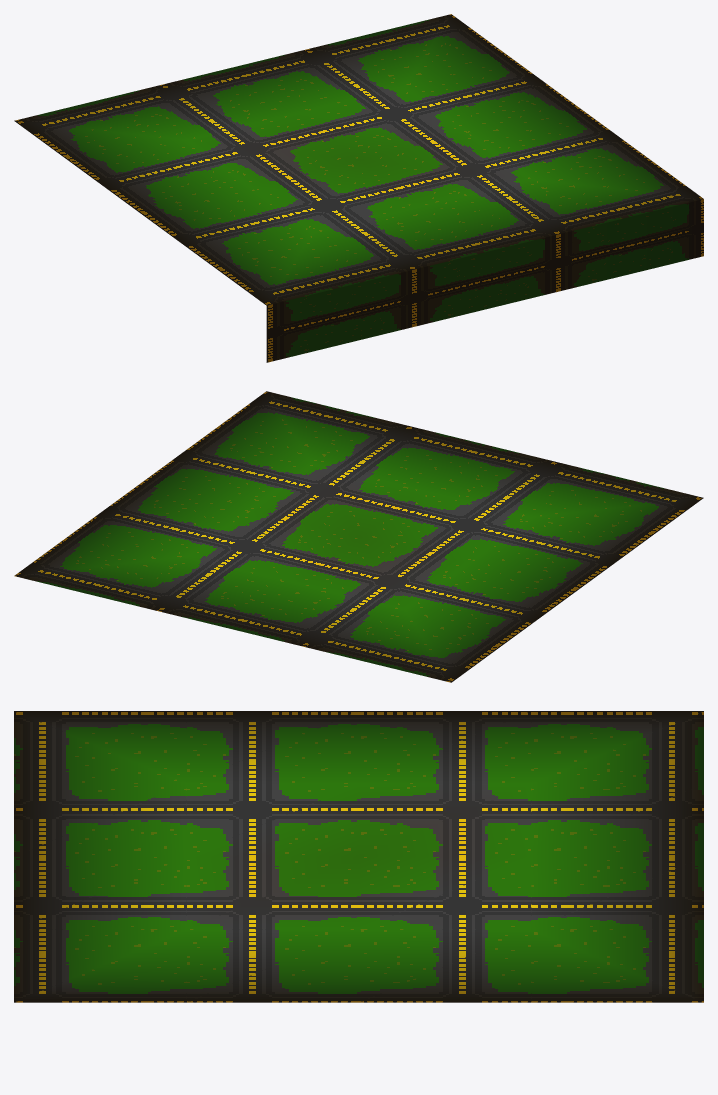
Rendered from map.glb.
3 renders of one model, top to bottom at view 1: azimuth 30°, elevation 25°; view 2: azimuth 150°, elevation 25°; view 3: azimuth 270°, elevation 25°, orthographic. The views are drawn at different scales.
Visible parts, largest first — view 1: Plane; view 2: Plane; view 3: Plane.
Part boxes in pixels (<box>): Plane: <box>14,14,703,362</box>; Plane: <box>14,391,703,682</box>; Plane: <box>14,711,703,1002</box>.
Bounding box in the file's own units: 16 × 2 × 16.
1 material, 1 textured.
